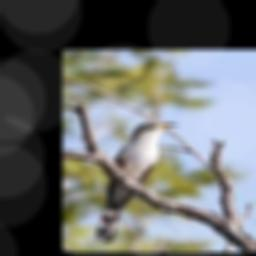Cuckoo: (95, 122, 177, 242)
